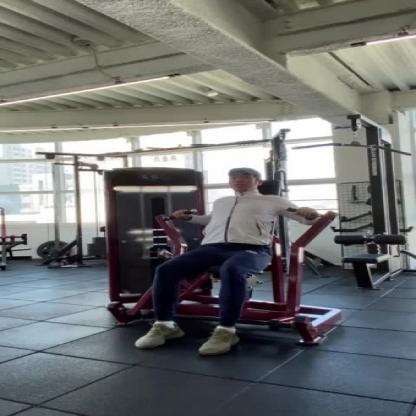Chest Press machine: (63, 134, 367, 353)
